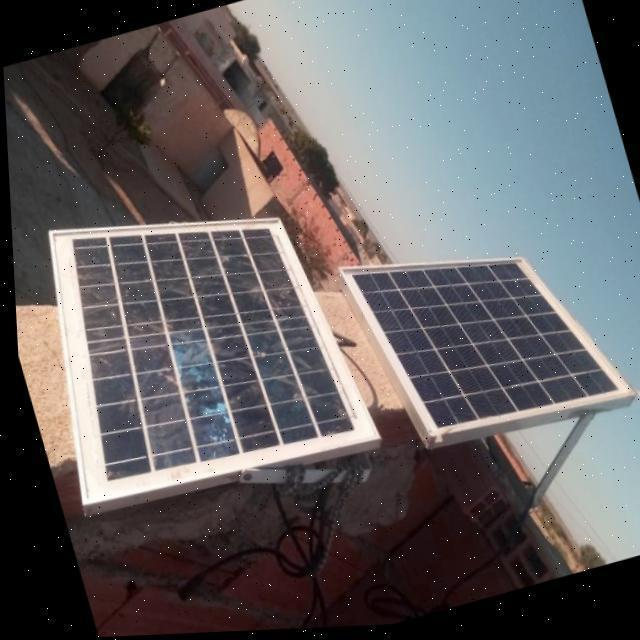Normal Solar Panel: (332, 202, 630, 464)
